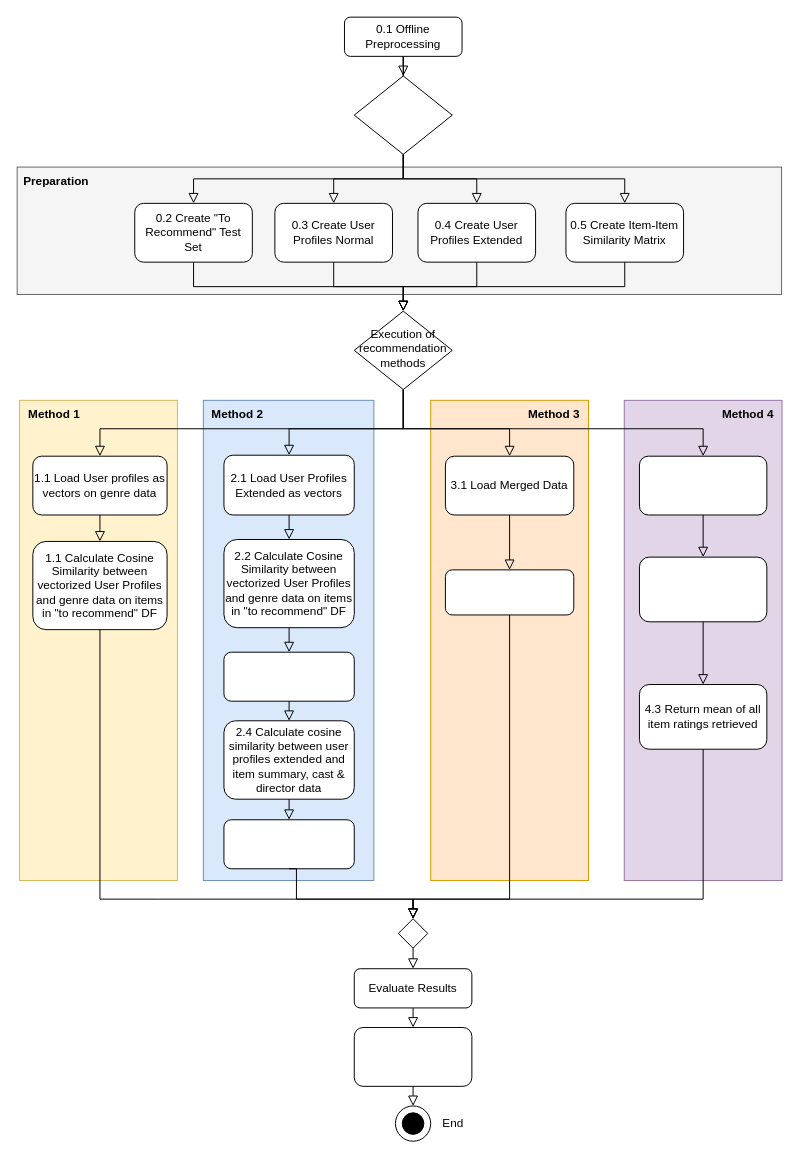
Some shapes in this 800 by 1158 pixel diagram are drawn without their labels. The box of each missing label's shape, as (x1, y1, x2, y2) in pixels:
2.3 Preprocess Item summary, cast & director data: (223, 651, 354, 701)
2.5 Combine similarity values with equal weighting: (223, 819, 354, 869)
3.2 Calculate Average Similarity Score: (444, 569, 574, 615)
4.1 Load Merged Data as Pivot Table: (638, 455, 767, 515)
4.2 Calculate Nearest Neighbor values considering 20 neighbors: (638, 556, 767, 622)
Export Recommendations as .csv: (353, 1027, 472, 1086)
Preparation of input data: (353, 75, 452, 154)
